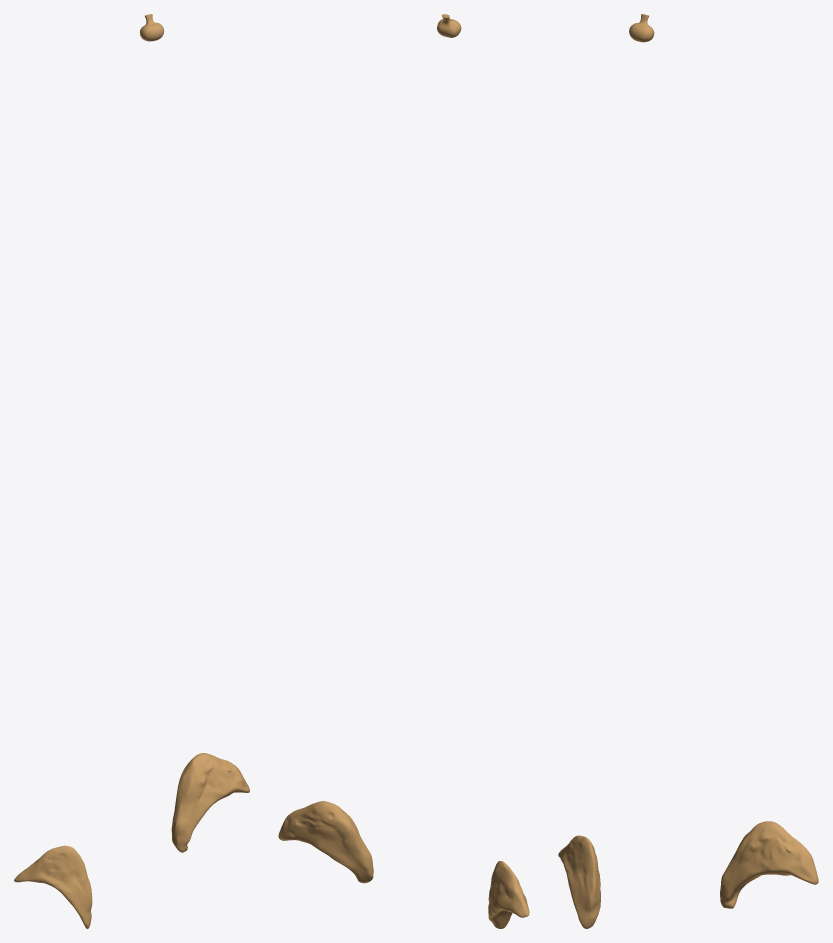
Rendered from endocrine.glb.
3 renders of one model, left to right at view 1: azimuth 30°, elevation 25°; view 2: azimuth 150°, elevation 25°; view 3: azimuth 330°, elevation 25°, orthographic. The views are drawn at different scales.
Parts seen in each view (by area): view 1: adrenal-glands; view 2: adrenal-glands; view 3: adrenal-glands.
Boxes of the visible parts, x1=… form: adrenal-glands: x1=14, y1=753, x2=249, y2=928; adrenal-glands: x1=278, y1=801, x2=529, y2=928; adrenal-glands: x1=558, y1=821, x2=818, y2=928.
Size of the model in its own units: 0.2761 by 0.98 by 0.0949.
